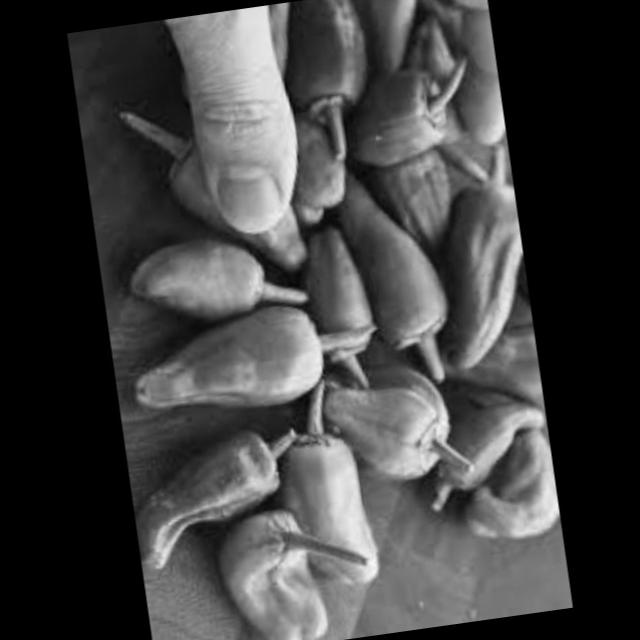hot pepper: (106, 270, 390, 433), (124, 87, 306, 281), (124, 404, 320, 578), (258, 373, 394, 600), (205, 490, 391, 640), (110, 218, 326, 344), (344, 170, 466, 390), (306, 346, 482, 498), (428, 150, 541, 382), (343, 31, 498, 177), (422, 385, 558, 513), (277, 0, 387, 144), (454, 418, 564, 548), (278, 98, 371, 230), (379, 129, 471, 250), (365, 0, 455, 82)
